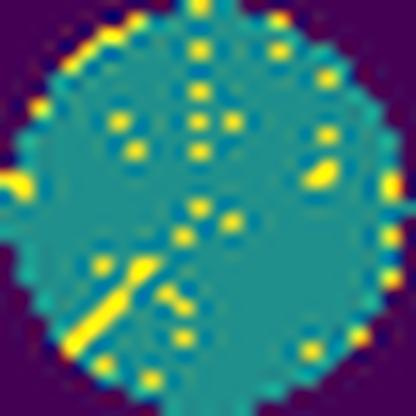Scratch: (58, 253, 164, 365)
